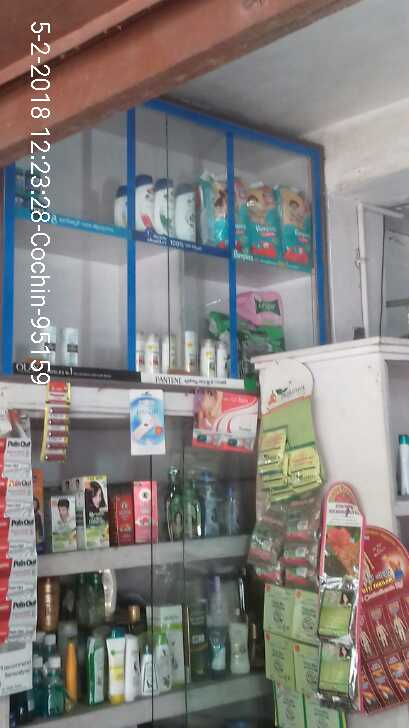vicks: (13, 166, 50, 211)
